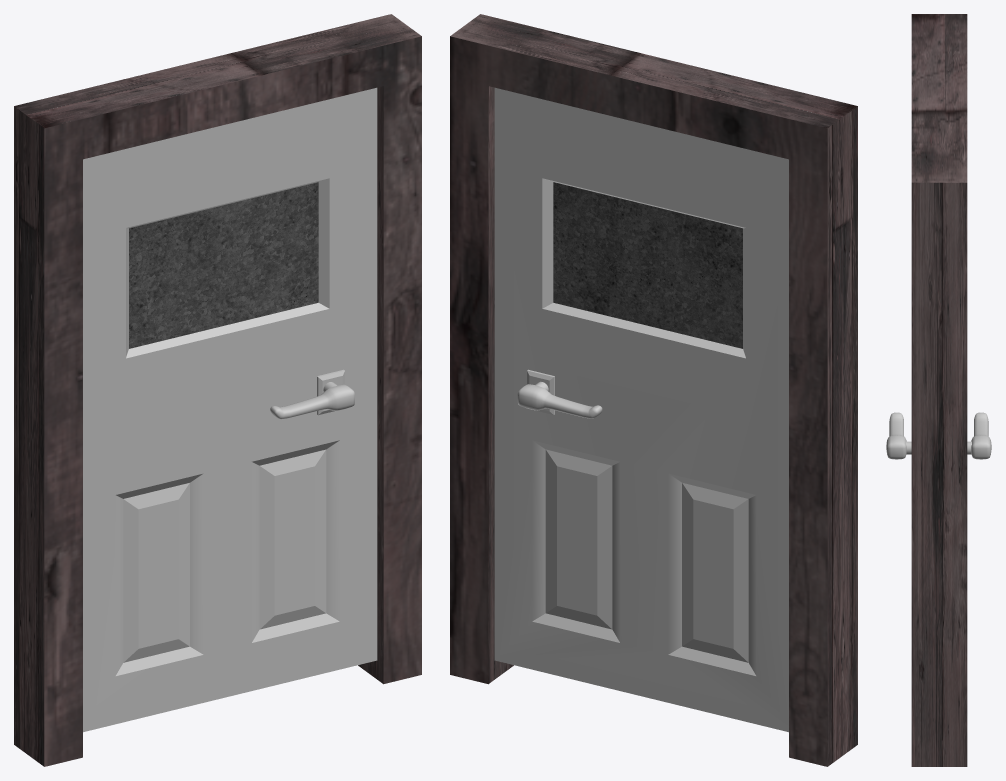
File: Door 2 + 3.fbx
3 renders of one model, left to right at view 1: azimuth 30°, elevation 25°; view 2: azimuth 150°, elevation 25°; view 3: azimuth 270°, elevation 25°, orthographic. The views are drawn at different scales.
Parts seen in each view (by area): view 1: Prefab_Door2, Prefab_Door2_Frame, Prefab_Door2_Glass, Prefab_Door2_Handle3; view 2: Prefab_Door2, Prefab_Door2_Frame, Prefab_Door2_Glass, Prefab_Door2_Handle2; view 3: Prefab_Door2_Frame, Prefab_Door2_Handle2, Prefab_Door2_Handle3.
Boxes of the visible parts, box(x1,y1,x2,y2) form: Prefab_Door2: box(83, 87, 377, 732); Prefab_Door2_Frame: box(14, 14, 421, 766); Prefab_Door2_Glass: box(129, 182, 318, 348); Prefab_Door2_Handle3: box(270, 384, 354, 419); Prefab_Door2: box(494, 87, 788, 732); Prefab_Door2_Frame: box(450, 14, 857, 766); Prefab_Door2_Glass: box(553, 182, 742, 348); Prefab_Door2_Handle2: box(517, 384, 602, 418); Prefab_Door2_Frame: box(911, 14, 967, 766); Prefab_Door2_Handle2: box(971, 412, 991, 459); Prefab_Door2_Handle3: box(886, 412, 906, 459).
Size of the model in its own units: 2.23 by 3.6 by 0.5888.
